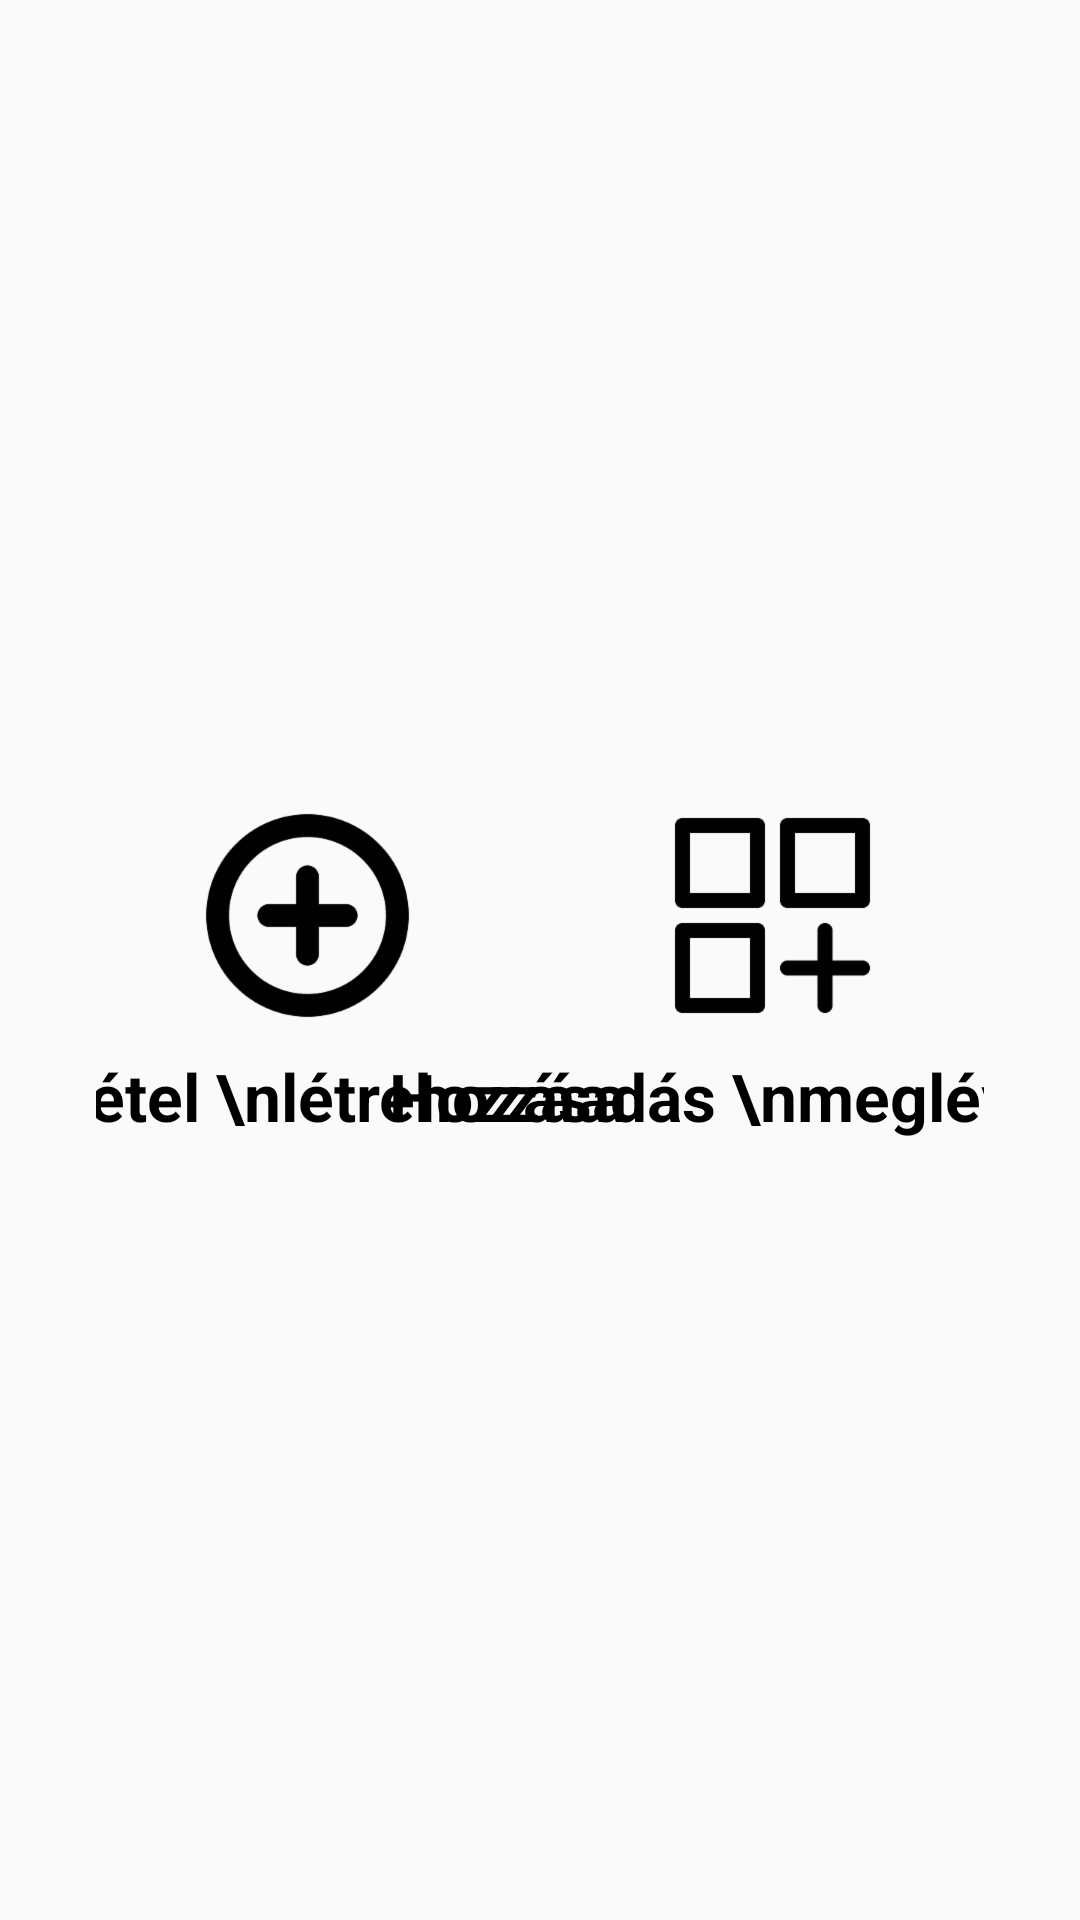

Where icons sit on this 1080px x 1920px app screen, as (x1=x1, y1=y1, x2=x2, y2=y2):
add to existing: (x1=675, y1=818, x2=870, y2=1013)
create: (x1=206, y1=814, x2=409, y2=1017)
